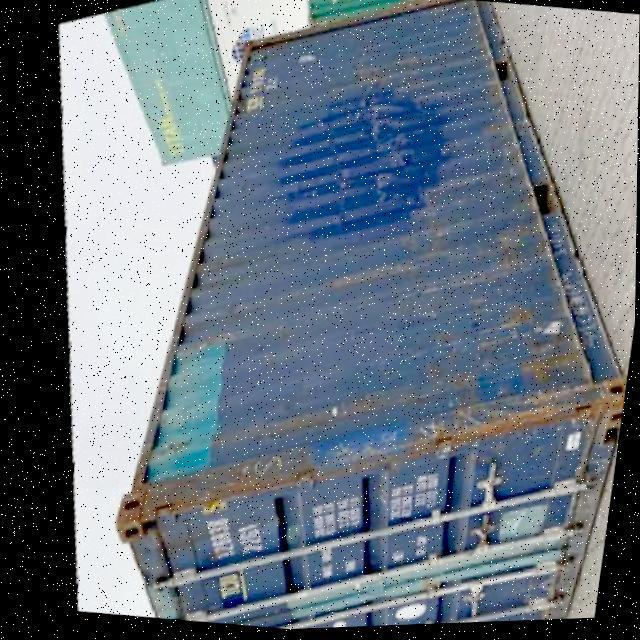rust: (409, 334, 598, 481), (327, 239, 448, 308), (478, 99, 540, 192), (485, 217, 561, 285), (218, 444, 296, 507), (146, 431, 212, 480)
